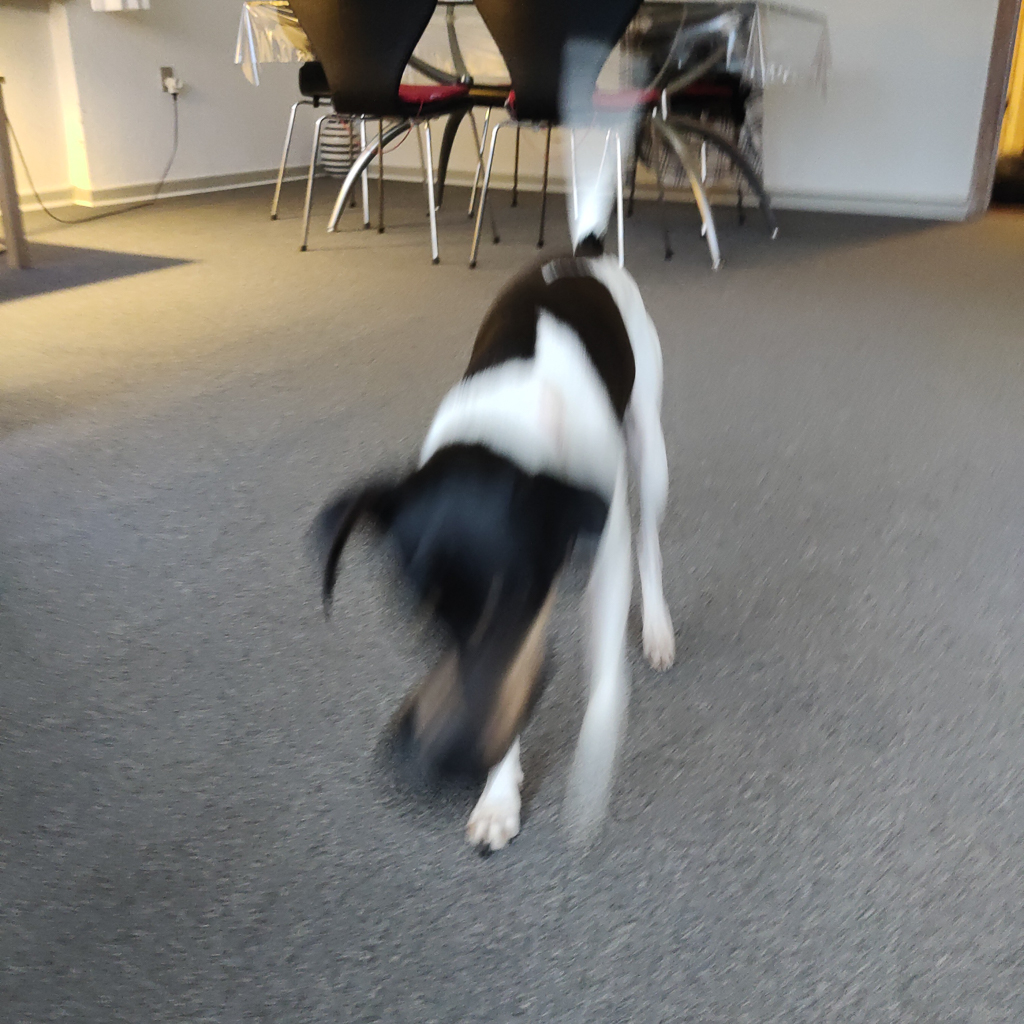Dog: (280, 21, 733, 905)
